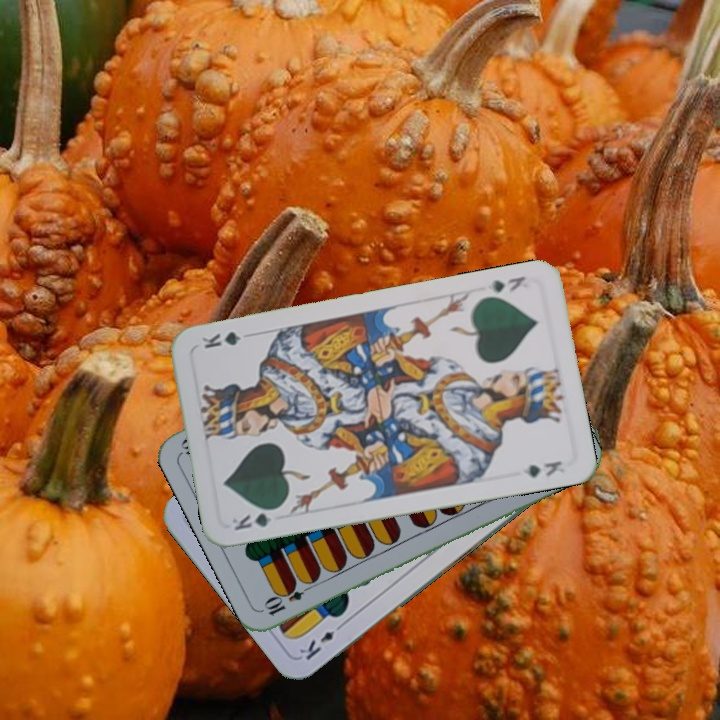E10: (260, 579, 316, 618)
EK: (295, 618, 348, 663)
GK: (228, 503, 283, 533), (483, 272, 528, 296)
